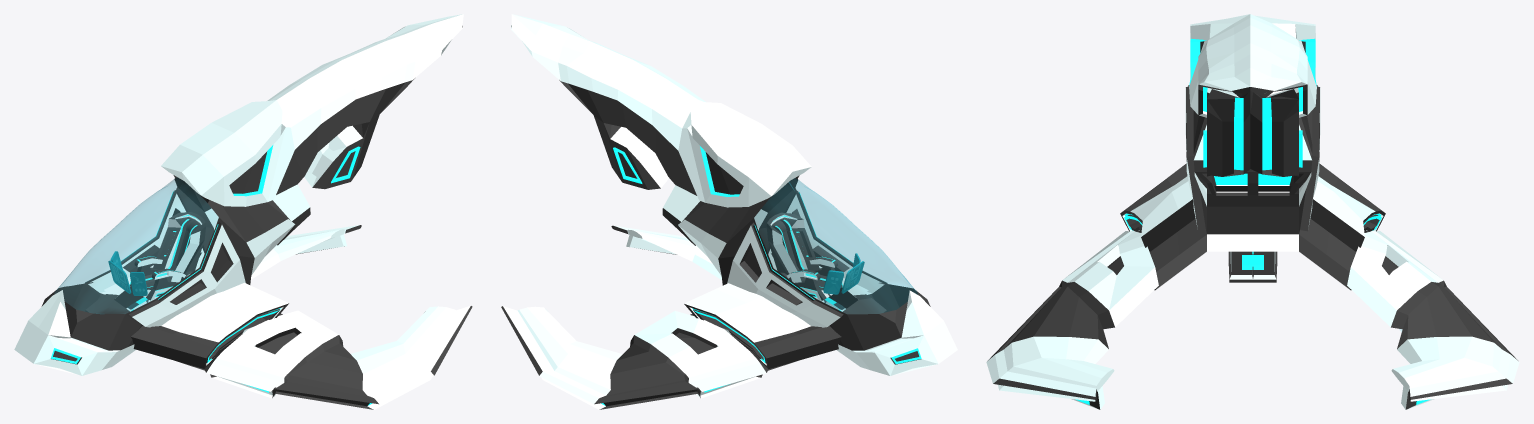
Rendered from spacecraft.glb.
The picture shows the model from 3 angles, left to right: view 1: azimuth 30°, elevation 25°; view 2: azimuth 150°, elevation 25°; view 3: azimuth 270°, elevation 25°; orthographic projection. The views are drawn at different scales.
Visible parts, largest first — view 1: sh_3; view 2: sh_3; view 3: sh_3.
Boxes of the visible parts, box(x1,y1,x2,y2) form: sh_3: box(14, 14, 472, 409); sh_3: box(501, 14, 957, 409); sh_3: box(986, 14, 1519, 409).
Size of the model in its own units: 12.37 by 7.73 by 9.12.
